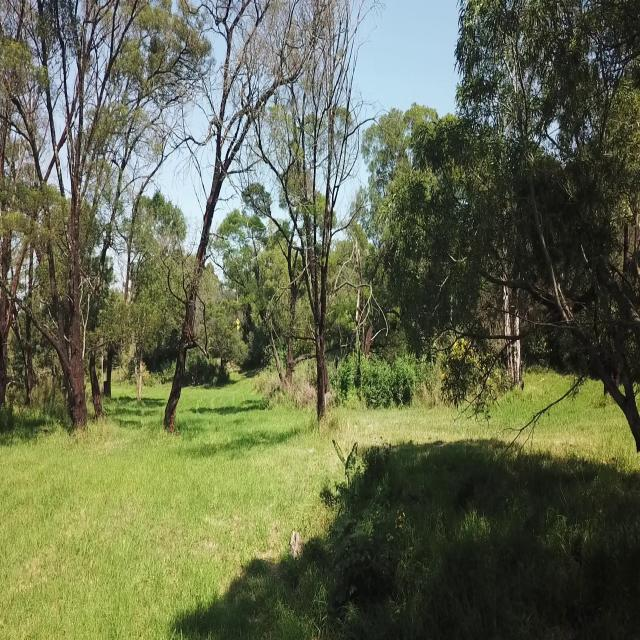Mysore-Thorn-Weed: (317, 436, 391, 559)
